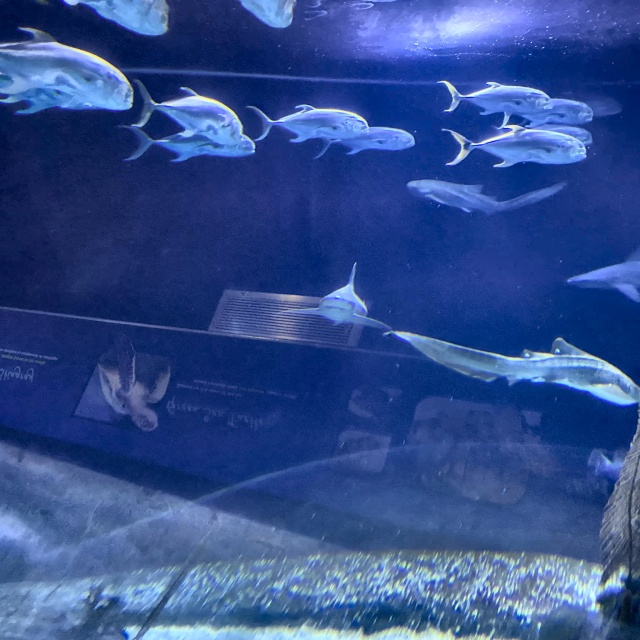fish: (0, 28, 115, 105), (135, 79, 244, 144), (442, 125, 589, 169), (15, 64, 134, 113), (119, 124, 258, 163), (248, 104, 370, 145), (64, 0, 171, 38), (438, 81, 552, 115), (312, 127, 416, 158), (498, 97, 594, 126), (239, 0, 300, 28)
shark: (388, 331, 639, 405), (282, 262, 393, 338), (410, 180, 566, 213), (570, 250, 639, 304)
